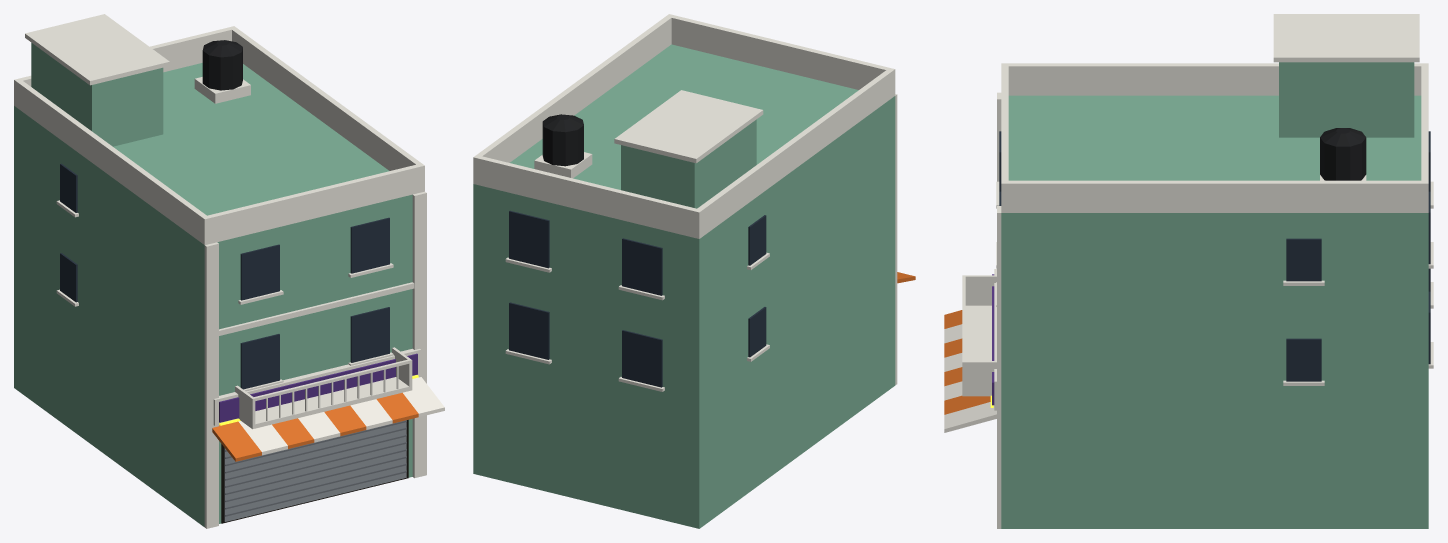
Rendered from bld_shophouse_03.glb.
3 views of the same model, side by side, from view 1: azimuth 30°, elevation 25°; view 2: azimuth 150°, elevation 25°; view 3: azimuth 270°, elevation 25° (orthographic). The views are drawn at different scales.
Parts seen in each view (by area): view 1: bld_shophouse_03; view 2: bld_shophouse_03; view 3: bld_shophouse_03.
Part boxes in pixels (x1,y1,x2,y2): bld_shophouse_03: (14, 14, 444, 528); bld_shophouse_03: (473, 14, 915, 528); bld_shophouse_03: (944, 14, 1433, 528).
Size of what is drawn, in the model's own units: 8.28 by 12.35 by 13.74.
